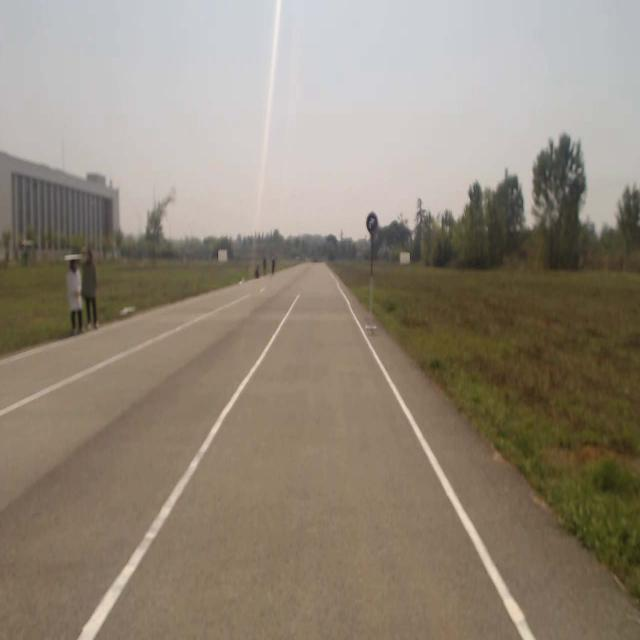sag: (366, 211, 379, 233)
